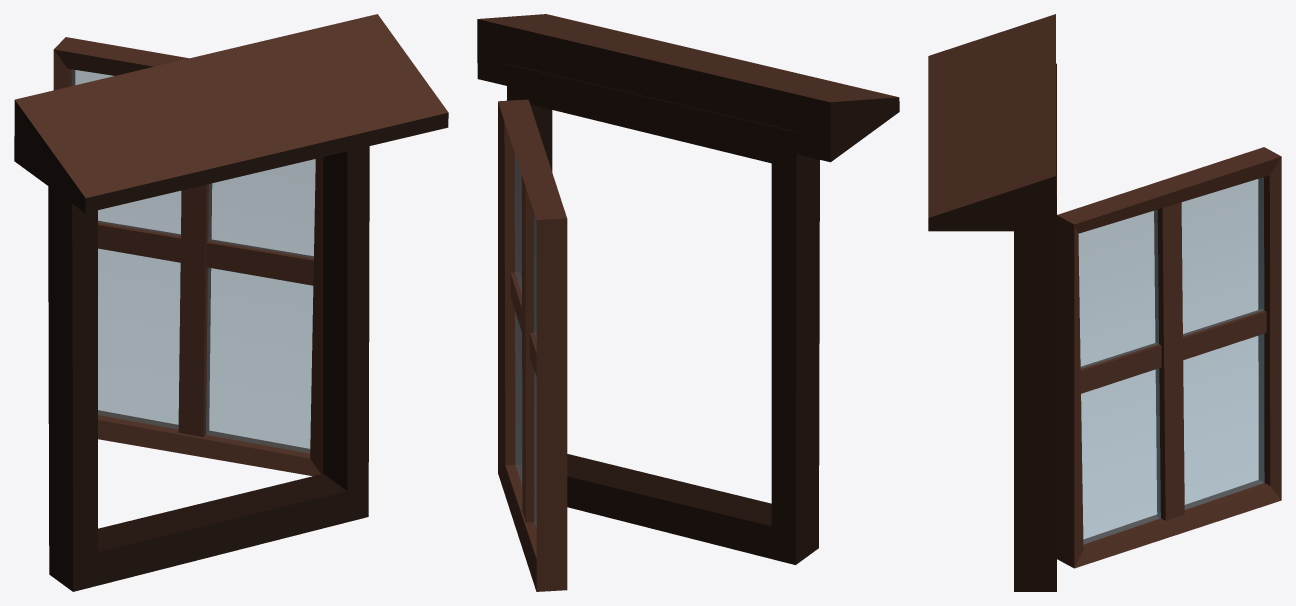
The model's file is Window 2x2 V3 Open v2.glb.
The picture shows the model from 3 angles, left to right: view 1: azimuth 30°, elevation 25°; view 2: azimuth 150°, elevation 25°; view 3: azimuth 270°, elevation 25°; orthographic projection. The views are drawn at different scales.
Parts seen in each view (by area): view 1: Window 2x2 V3 Open v2; view 2: Window 2x2 V3 Open v2; view 3: Window 2x2 V3 Open v2.
Boxes of the visible parts, x1,y1,x2,y2 form: Window 2x2 V3 Open v2: (14,14,448,591); Window 2x2 V3 Open v2: (477,14,899,591); Window 2x2 V3 Open v2: (928,14,1281,591).
Size of the model in its own units: 1.41 by 1.79 by 1.32.
Materials: 2 (2 with a texture image).
